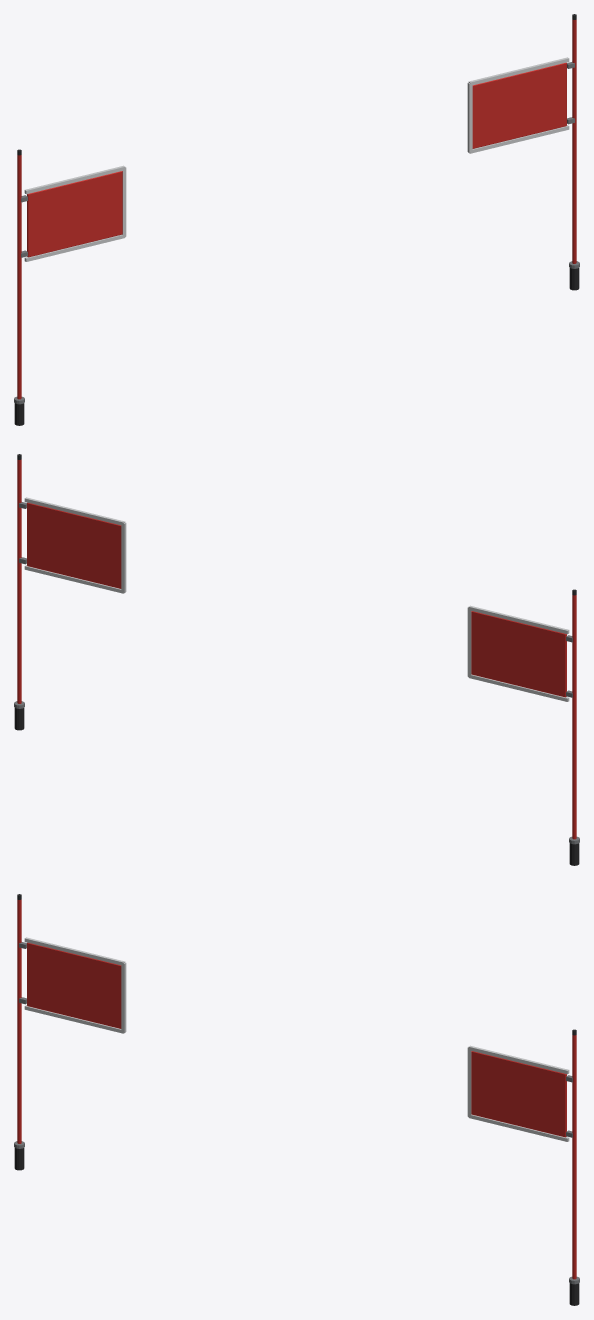
The model's file is gate-red.glb.
The picture shows the model from 3 angles, top to bottom: view 1: azimuth 30°, elevation 25°; view 2: azimuth 150°, elevation 25°; view 3: azimuth 330°, elevation 25°; orthographic projection.
Visible parts, largest first — view 1: gate-red; view 2: gate-red; view 3: gate-red.
Part boxes in pixels (<box>): gate-red: <box>14,14,579,425</box>; gate-red: <box>14,454,579,865</box>; gate-red: <box>14,894,579,1305</box>.
Size of the model in its own units: 4.27 by 1.98 by 0.072.
